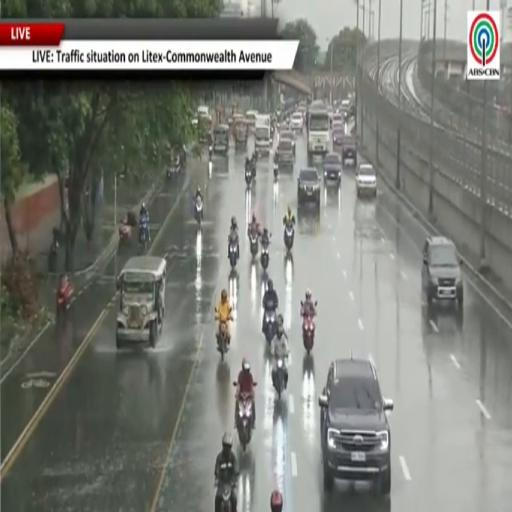car: (319, 358, 393, 495), (422, 236, 463, 309), (297, 168, 320, 207), (355, 164, 377, 197), (323, 153, 342, 186), (340, 134, 358, 166), (276, 139, 293, 171), (279, 131, 296, 156), (332, 126, 345, 150), (290, 111, 304, 133), (333, 112, 344, 127), (332, 120, 344, 132)
jeepney: (116, 256, 166, 348), (213, 124, 229, 154), (228, 112, 244, 137), (198, 116, 212, 143), (235, 119, 248, 148), (246, 110, 258, 132)
motorcycle: (237, 394, 253, 451), (56, 281, 73, 315), (303, 312, 315, 355), (303, 315, 315, 355), (217, 323, 229, 361), (264, 310, 276, 345), (274, 359, 284, 398), (119, 220, 131, 246), (221, 484, 232, 511), (140, 218, 149, 251), (229, 240, 238, 269), (284, 226, 294, 252), (195, 198, 203, 228), (249, 234, 259, 258), (260, 244, 269, 270), (245, 166, 253, 187), (274, 163, 278, 179), (209, 146, 212, 161)
truck: (307, 106, 329, 165)
